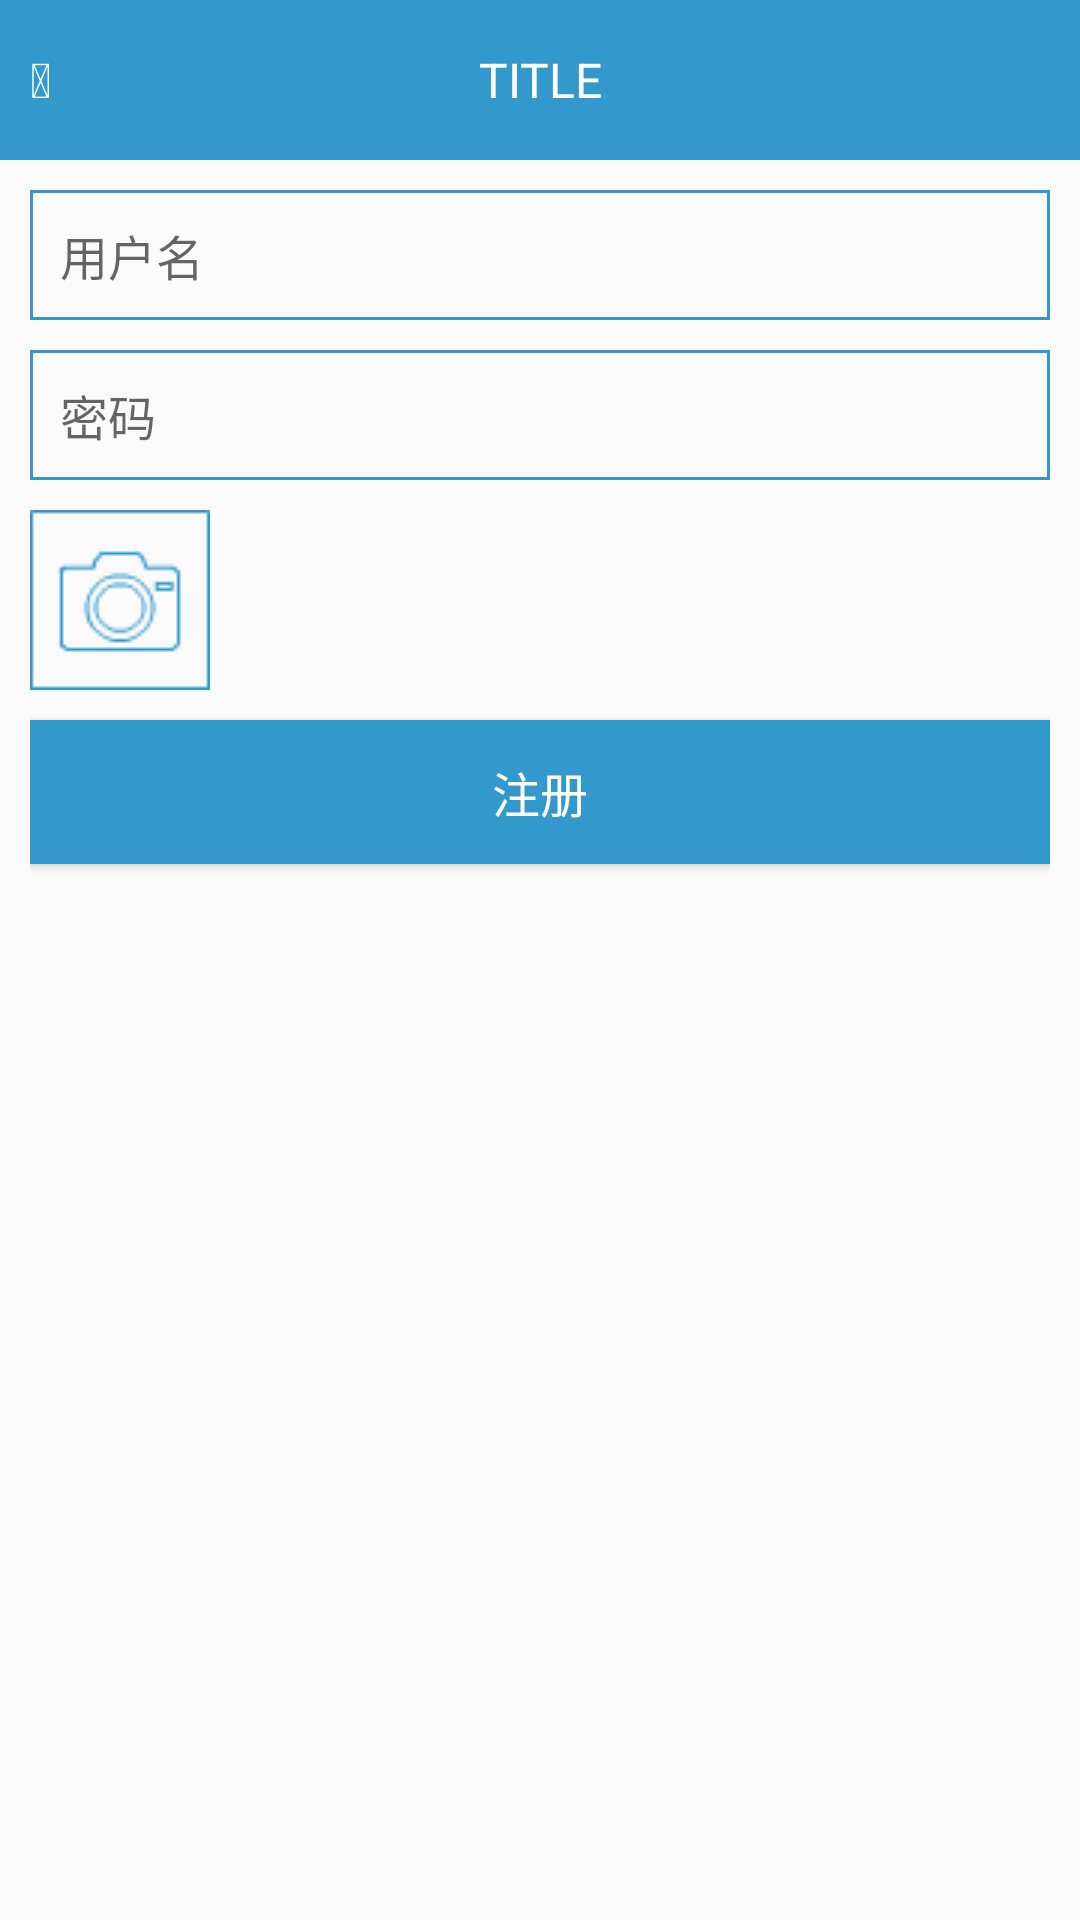

Icon bounding boxes for this 1080 x 1920 phone screenshot, format (x1, y1, x2, y2):
camera: (30, 510, 210, 690)
